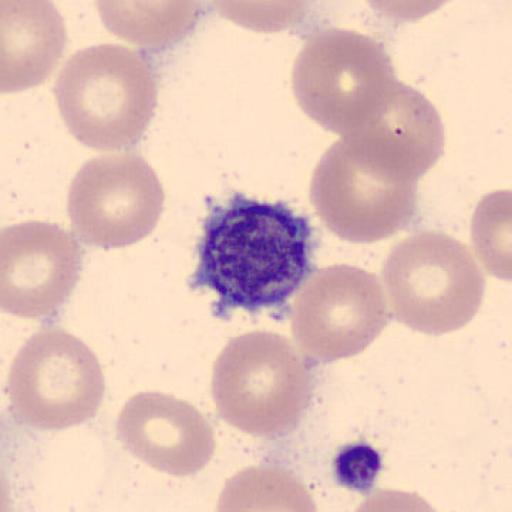Platelet: (186, 188, 322, 325), (329, 436, 386, 496)
RBC: (308, 132, 420, 246), (208, 328, 317, 441), (51, 41, 159, 154), (290, 27, 398, 138), (379, 229, 487, 338), (339, 77, 446, 180), (5, 326, 107, 433), (288, 261, 390, 364), (64, 152, 166, 252), (113, 388, 217, 478), (0, 218, 84, 321), (1, 0, 69, 96), (92, 0, 205, 48), (212, 464, 320, 512), (469, 186, 512, 284), (206, 0, 315, 35), (340, 485, 452, 512), (361, 0, 462, 23)
